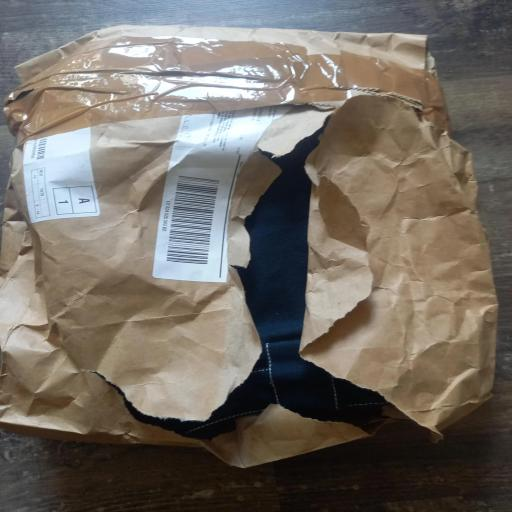torn: (73, 99, 466, 447)
